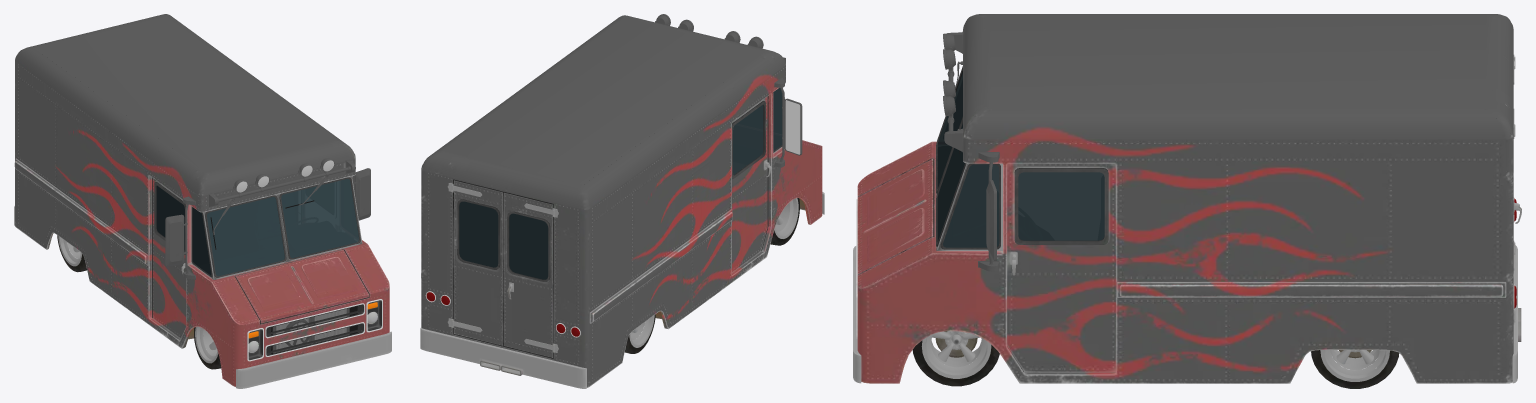
The model's file is step-van-lowrider-2b6b8f.glb.
The picture shows the model from 3 angles, left to right: view 1: azimuth 30°, elevation 25°; view 2: azimuth 150°, elevation 25°; view 3: azimuth 270°, elevation 25°; orthographic projection. The views are drawn at different scales.
Parts seen in each view (by area): view 1: body, wheel-back-right, wheel-front-right; view 2: body, wheel-back-right, wheel-front-right; view 3: body, wheel-front-left, wheel-back-left.
Boxes of the visible parts, <box> form: body: <box>14,14,391,388</box>; wheel-back-right: <box>57,235,86,272</box>; wheel-front-right: <box>195,326,217,363</box>; body: <box>420,14,824,388</box>; wheel-back-right: <box>625,314,655,353</box>; wheel-front-right: <box>774,198,798,238</box>; body: <box>853,14,1521,388</box>; wheel-front-left: <box>921,331,991,378</box>; wheel-back-left: <box>1325,350,1385,375</box>.
Bounding box in the file's own units: 2.62 × 2.29 × 5.04.
3 materials, 3 textured.
